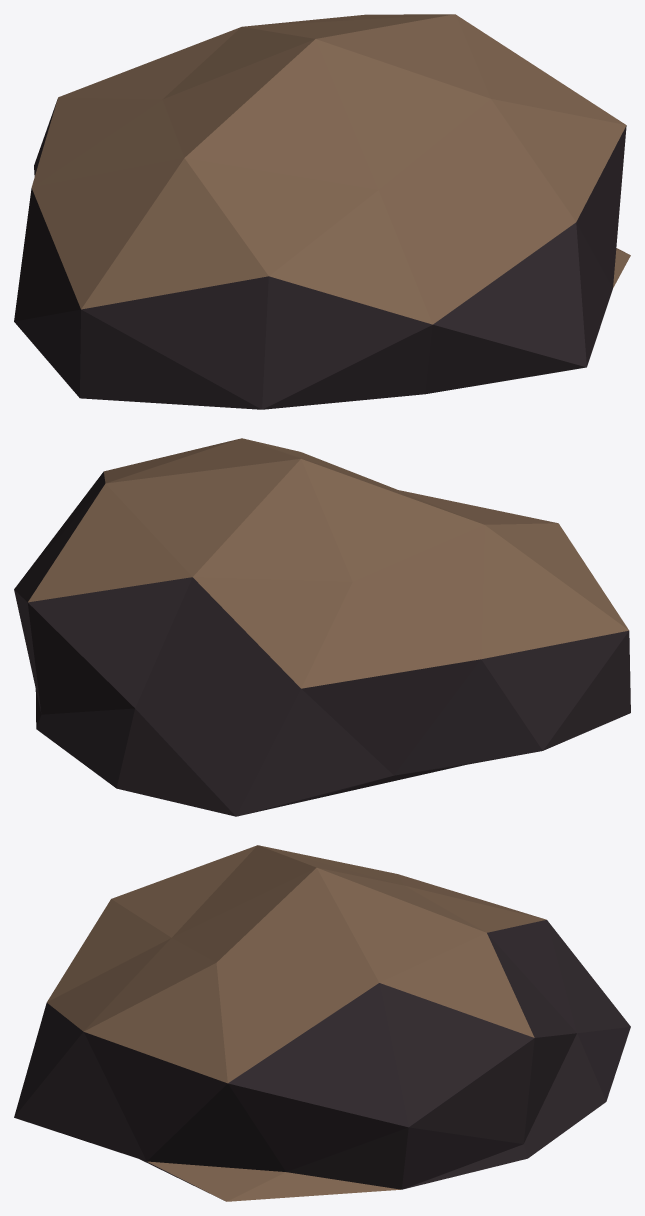
File: boulder_s1.glb
3 views of the same model, one above another, from view 1: azimuth 30°, elevation 25°; view 2: azimuth 150°, elevation 25°; view 3: azimuth 270°, elevation 25° (orthographic). The views are drawn at different scales.
Parts seen in each view (by area): view 1: body__M_Cliff_Crust_T0, body__M_Cliff_Licorice; view 2: body__M_Cliff_Licorice, body__M_Cliff_Crust_T0; view 3: body__M_Cliff_Licorice, body__M_Cliff_Crust_T0.
Part boxes in pixels (x1=…): body__M_Cliff_Crust_T0: x1=31, y1=14, x2=630, y2=324; body__M_Cliff_Licorice: x1=14, y1=99, x2=626, y2=409; body__M_Cliff_Licorice: x1=14, y1=472, x2=630, y2=816; body__M_Cliff_Crust_T0: x1=28, y1=438, x2=628, y2=688; body__M_Cliff_Licorice: x1=14, y1=920, x2=630, y2=1200; body__M_Cliff_Crust_T0: x1=47, y1=845, x2=546, y2=1201.
Bounding box in the file's own units: 0.3219 × 0.1342 × 0.3433.
